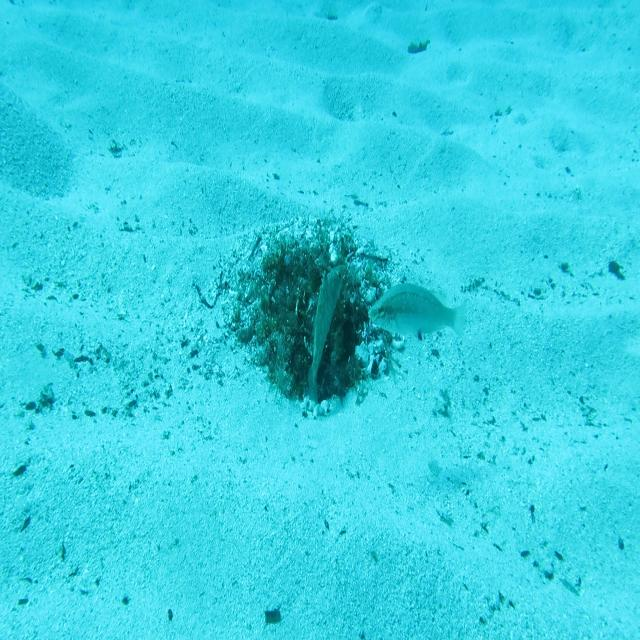FAN: (304, 260, 346, 408)
core_nest: (284, 258, 327, 292)
female: (367, 279, 468, 344)
nest: (215, 200, 412, 431)
vegetation: (406, 34, 430, 58), (608, 257, 625, 285), (263, 606, 281, 626)
